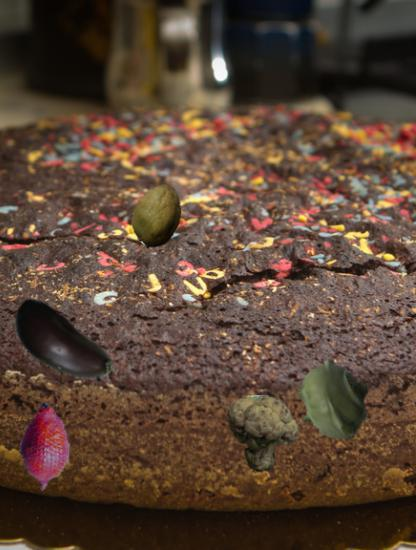Cauliflower: (225, 395, 304, 474)
Eggplant: (1, 287, 121, 407)
Kohlrabi: (291, 359, 377, 445)
Papaya: (127, 185, 190, 248)
Salak: (1, 403, 90, 492)
